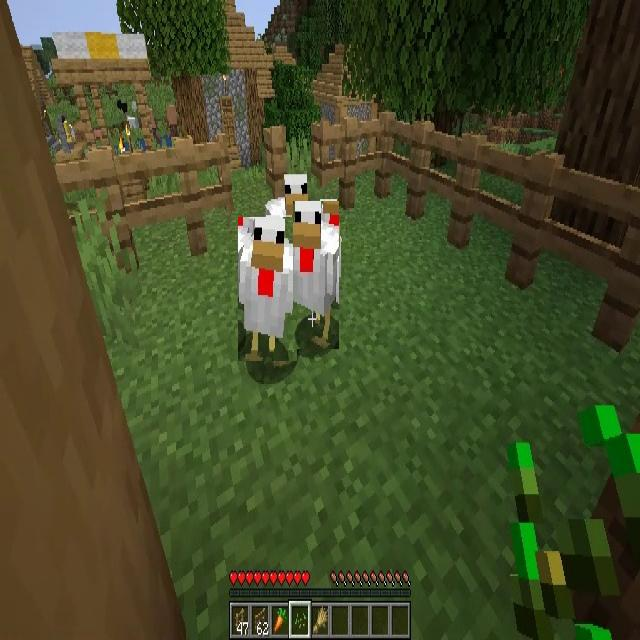duck: (238, 217, 297, 361), (293, 201, 339, 349), (264, 173, 308, 245)
sheep: (127, 116, 138, 130), (117, 99, 127, 113)
